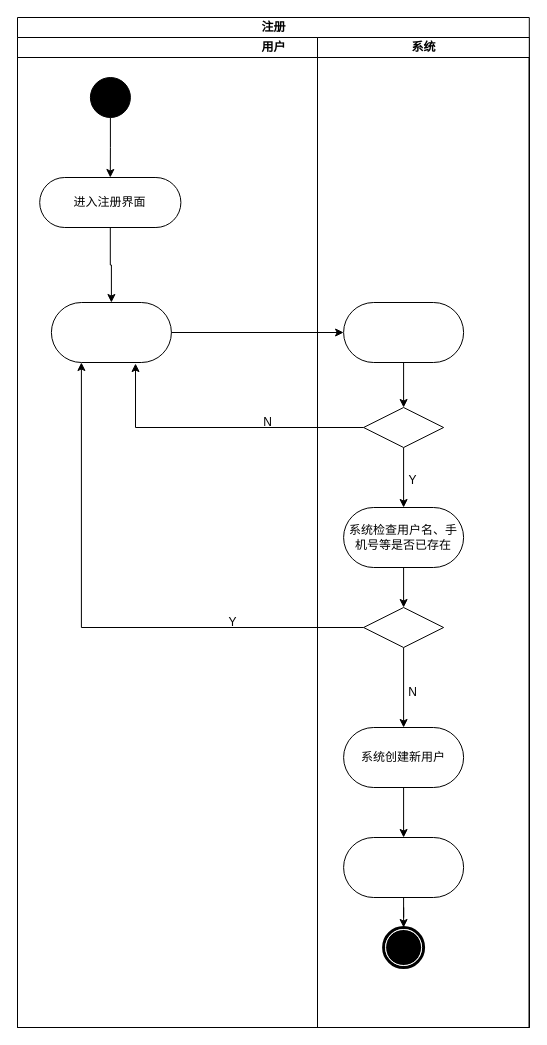
The diagram is 547 pixels wide and 1045 high, and some of its shapes have lost their labels. The shapes that lost their labels are listed below. From the top down, each one's centre as x and y in pixels, then its label:
[110,332]: 填写注册信息（如用户名、密码、手机号等）
[403,332]: 系统检查注册信息是否完整
[403,867]: 重定向用户到主页
